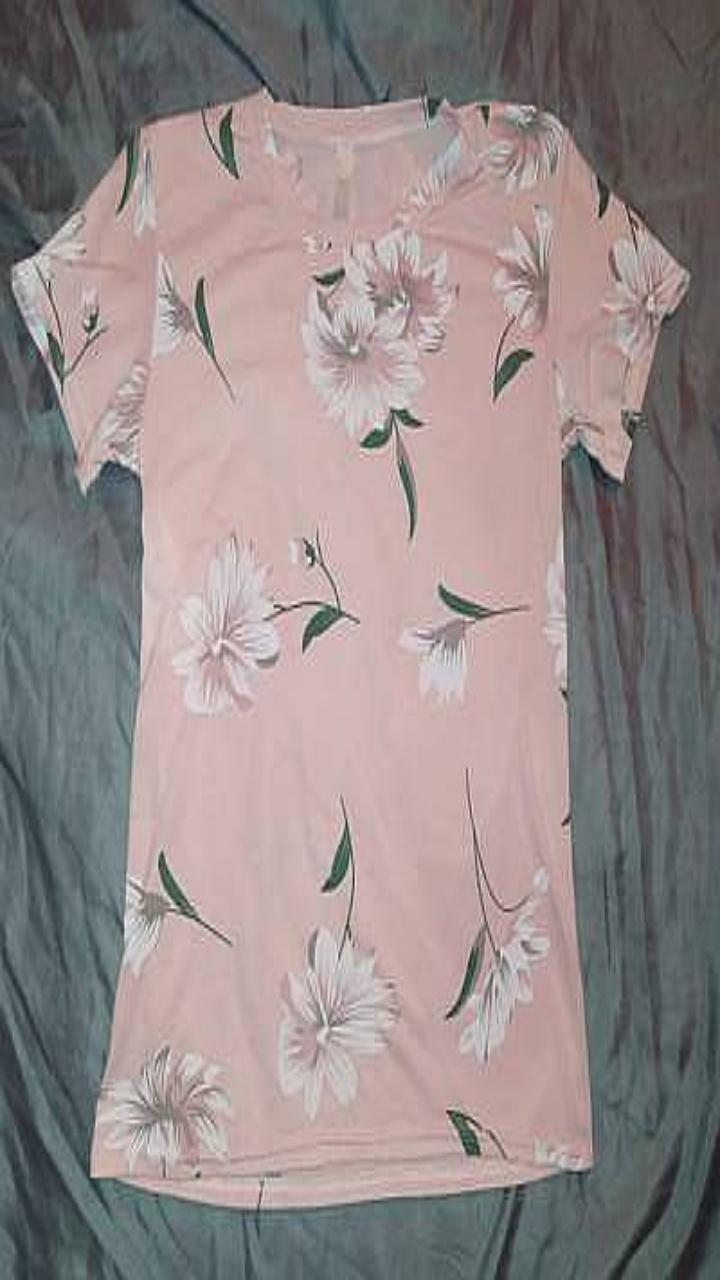T-Shirt: (12, 88, 689, 1207)
